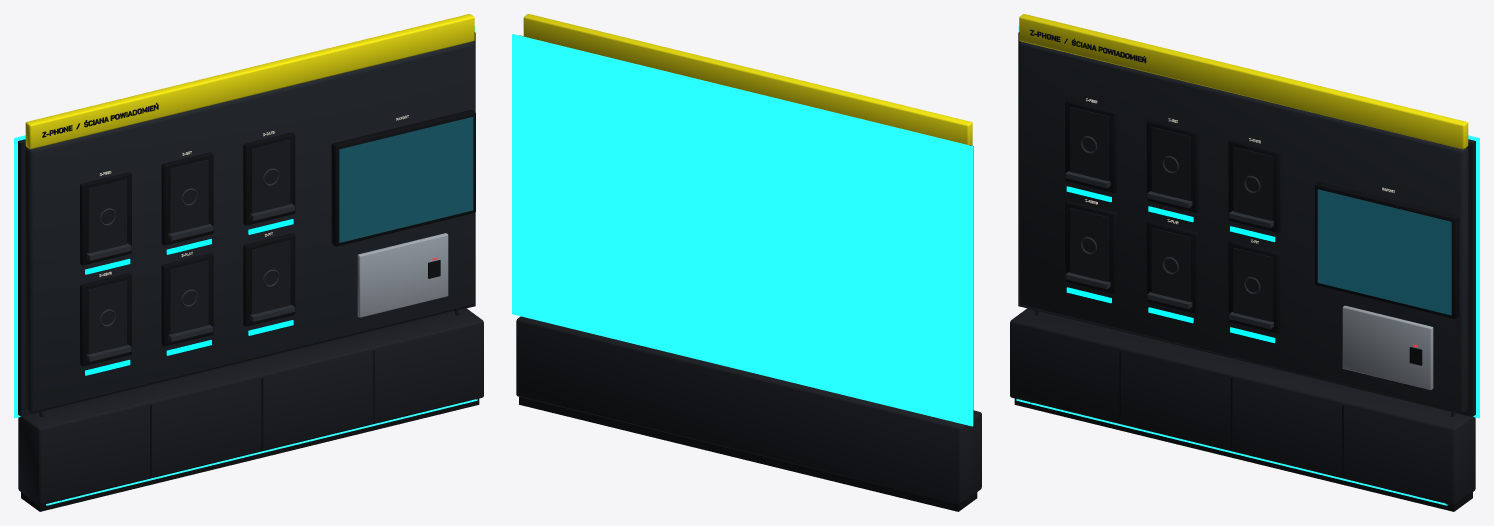
The model's file is phone_wall.glb.
The picture shows the model from 3 angles, left to right: view 1: azimuth 30°, elevation 25°; view 2: azimuth 150°, elevation 25°; view 3: azimuth 330°, elevation 25°; orthographic projection.
Visible parts, largest first — view 1: Body, Screen; view 2: Body; view 3: Body, Screen.
Part boxes in pixels (box(x1,y1,x2,y2)): Body: box(14, 14, 483, 511); Screen: box(339, 117, 473, 242); Body: box(512, 14, 981, 511); Body: box(1010, 14, 1479, 511); Screen: box(1317, 189, 1451, 315).
Bounding box in the file's own units: 3.1 × 2.46 × 0.2635.
